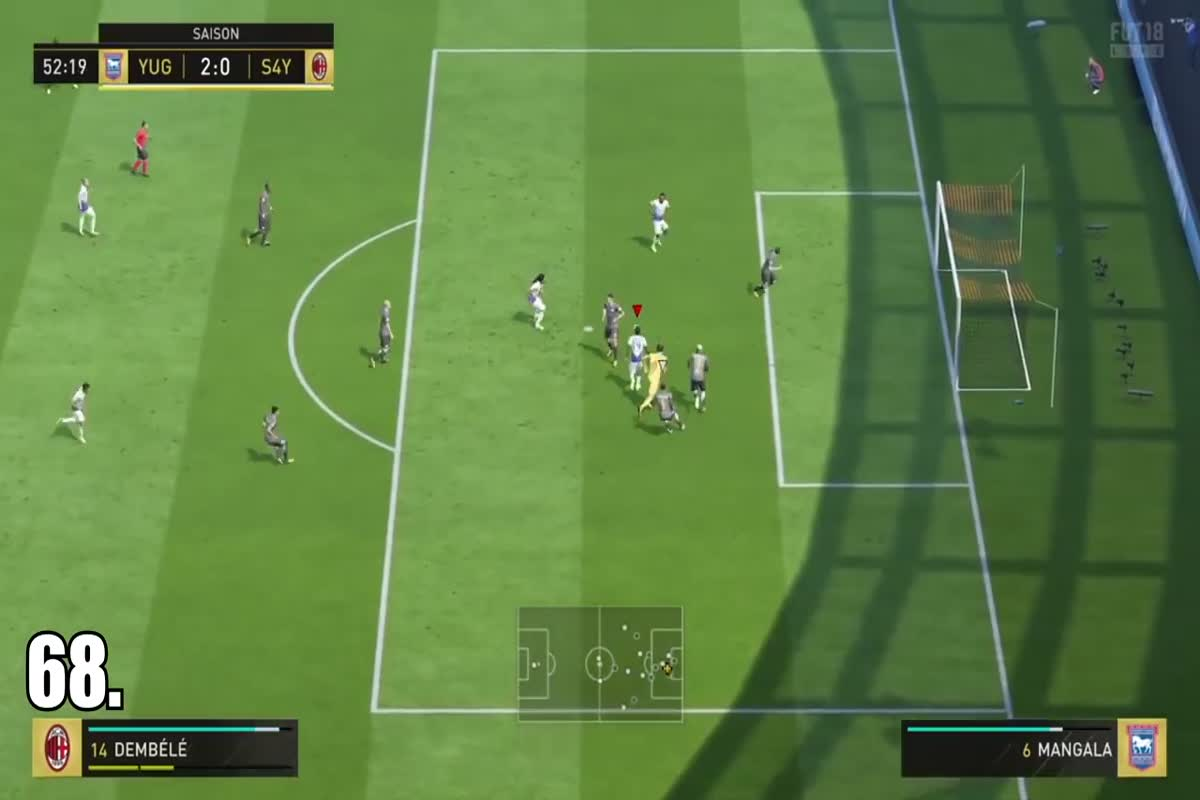ball: (629, 320, 648, 334)
